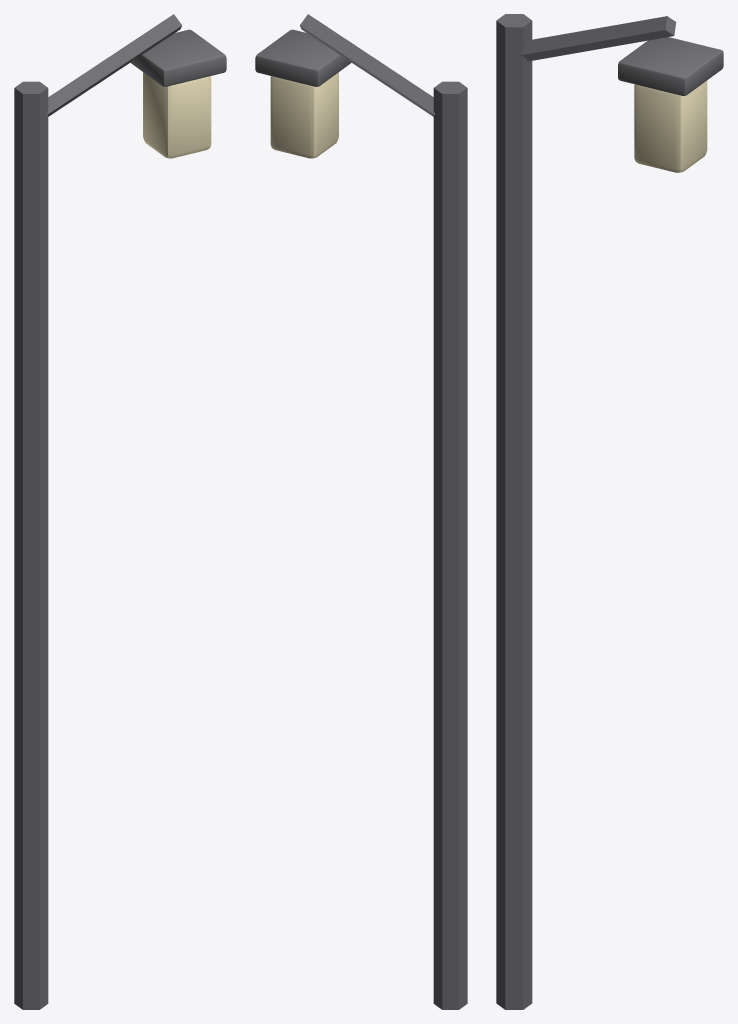
File: lamp_post.gltf
3 views of the same model, side by side, from view 1: azimuth 30°, elevation 25°; view 2: azimuth 150°, elevation 25°; view 3: azimuth 330°, elevation 25° (orthographic). The views are drawn at different scales.
Visible parts, largest first — view 1: Body; view 2: Body; view 3: Body.
Boxes of the visible parts, x1,y1,x2,y2 form: Body: (14, 14, 226, 1009); Body: (255, 14, 467, 1009); Body: (496, 14, 723, 1009).
Bounding box in the file's own units: 0.6533 × 3.13 × 0.22.
